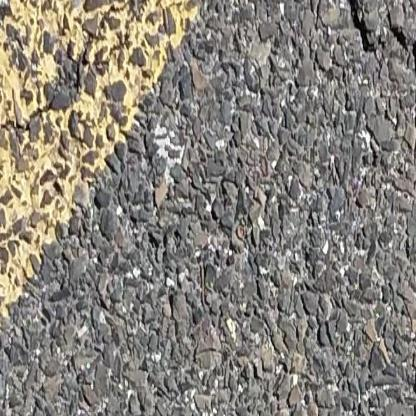Cracks: (304, 0, 416, 104)
